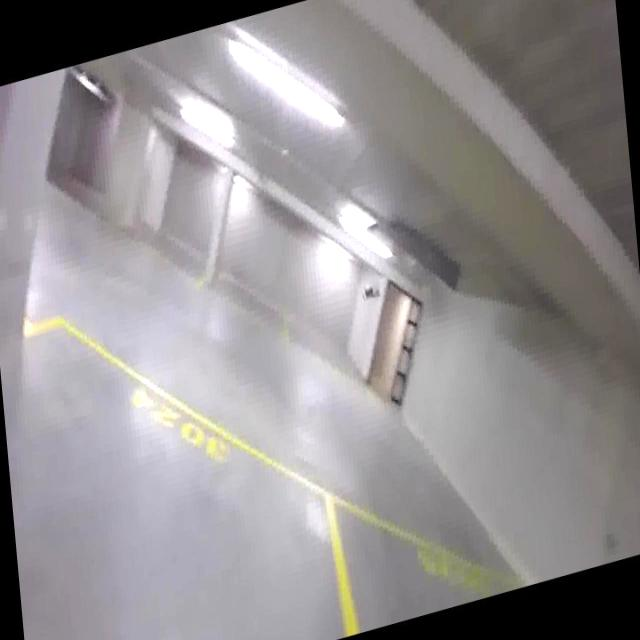drone: (357, 274, 381, 312)
